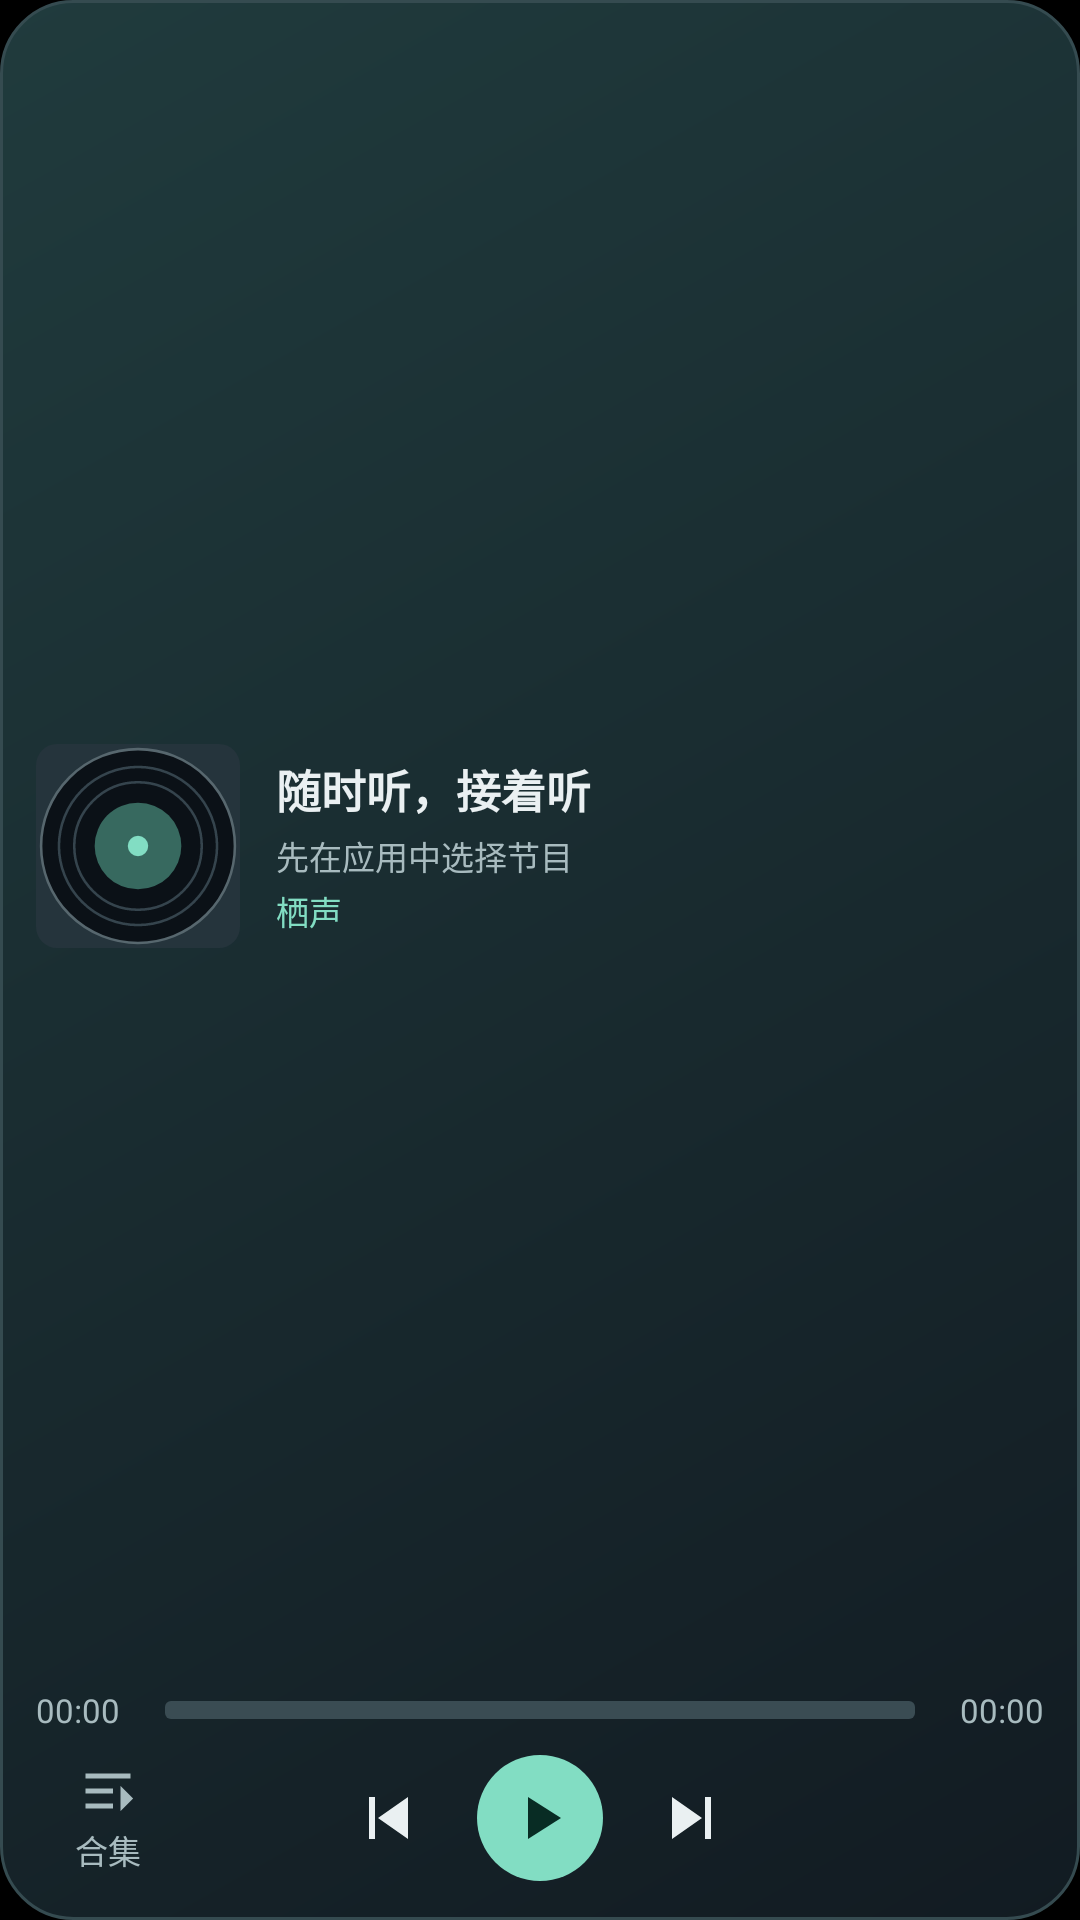

Point at icon controls on the screen. Image size 1080px x 1920px, points as [x,y].
上一条: [388,1818]
下一条: [691,1818]
播放: [540,1818]
节目封面: [138,846]
